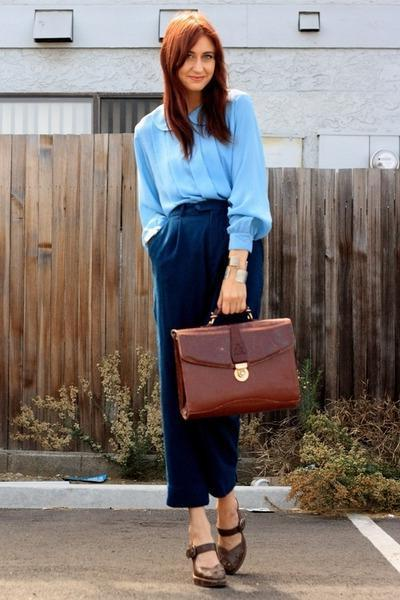long sleeve shirt: (130, 84, 273, 252)
trousers: (147, 203, 267, 515)
